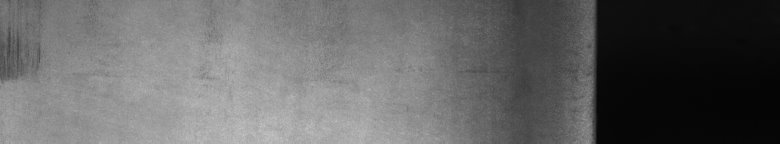ka: (4, 28, 41, 85)
